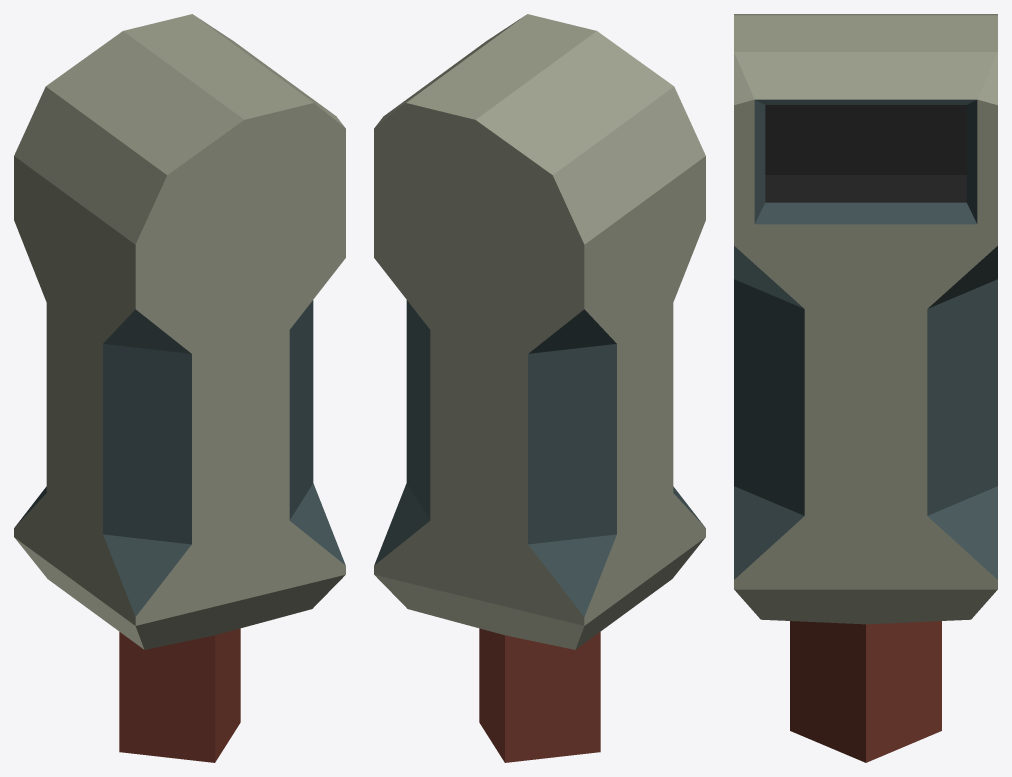
File: GarbageCan.fbx
3 views of the same model, side by side, from view 1: azimuth 30°, elevation 25°; view 2: azimuth 150°, elevation 25°; view 3: azimuth 270°, elevation 25° (orthographic). The views are drawn at different scales.
Visible parts, largest first — view 1: GarbageCan; view 2: GarbageCan; view 3: GarbageCan.
Part boxes in pixels (x1,y1,x2,y2): GarbageCan: [14, 14, 345, 762]; GarbageCan: [374, 14, 705, 762]; GarbageCan: [734, 14, 997, 762].
Size of the model in its own units: 50 by 150 by 50.
